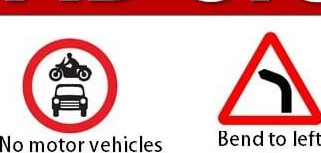Traffic signal: (217, 32, 321, 126), (21, 38, 119, 134)
